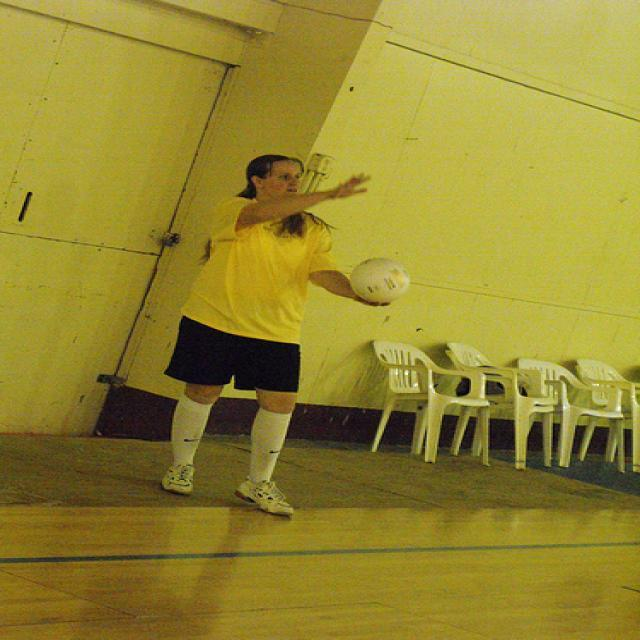volleyball: (350, 258, 409, 304)
